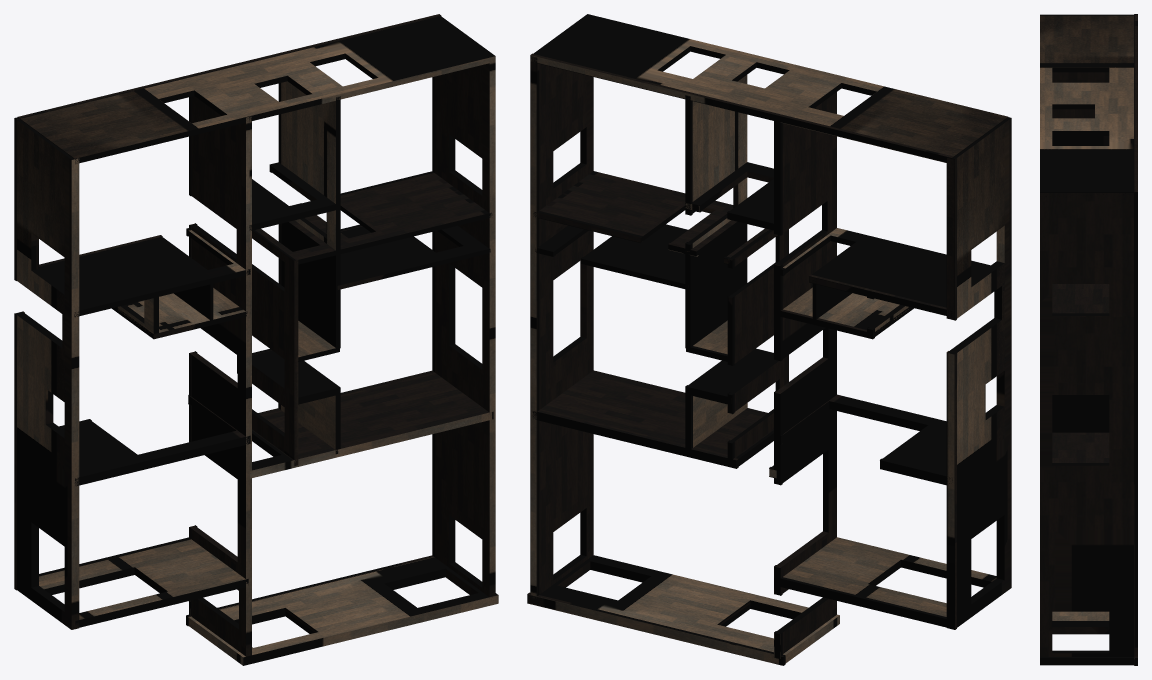
The model's file is wall_vm.obj.
3 views of the same model, side by side, from view 1: azimuth 30°, elevation 25°; view 2: azimuth 150°, elevation 25°; view 3: azimuth 270°, elevation 25° (orthographic). The views are drawn at different scales.
Bounding box in the file's own units: 10.42 × 12.78 × 2.4.
